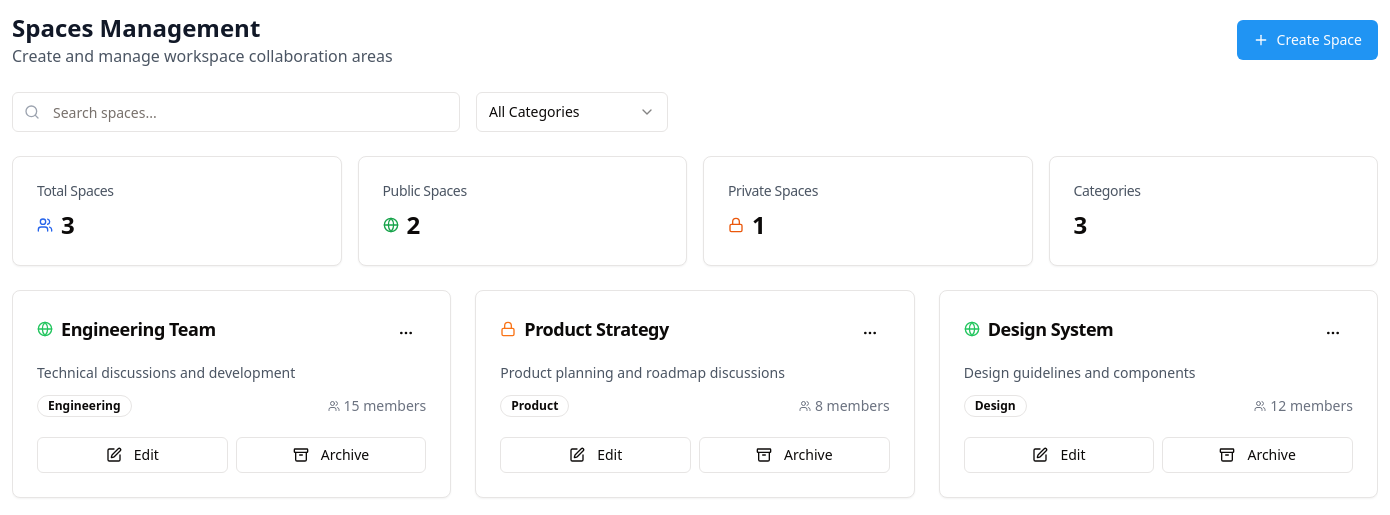
Test case: GroupsManagement › Search and Filtering › should clear search when search term is removed
Note: Search for specific term
Type "Engineering" into the field with placeholder "Search spaces..." at (236, 112), box x1=12 y1=92 x2=460 y2=132
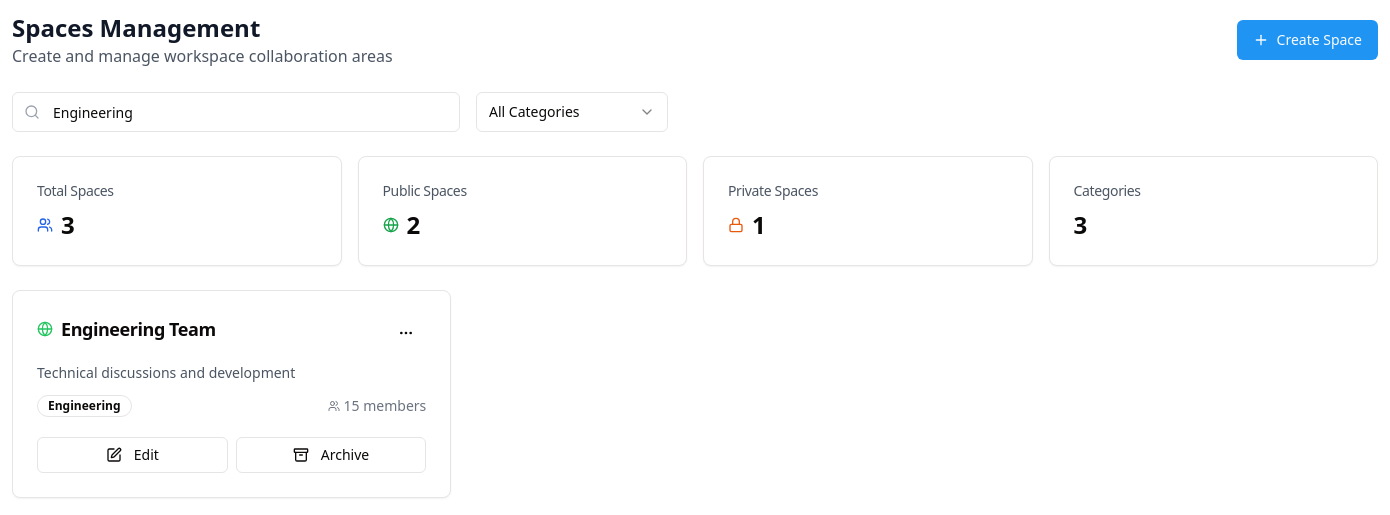
expect the text "Engineering Team" is shown: met, box x1=61 y1=315 x2=216 y2=343
expect the text "Product Strategy" is gone: met
Note: Clear search
Clear the field with placeholder "Search spaces..." at (236, 112), box x1=12 y1=92 x2=460 y2=132
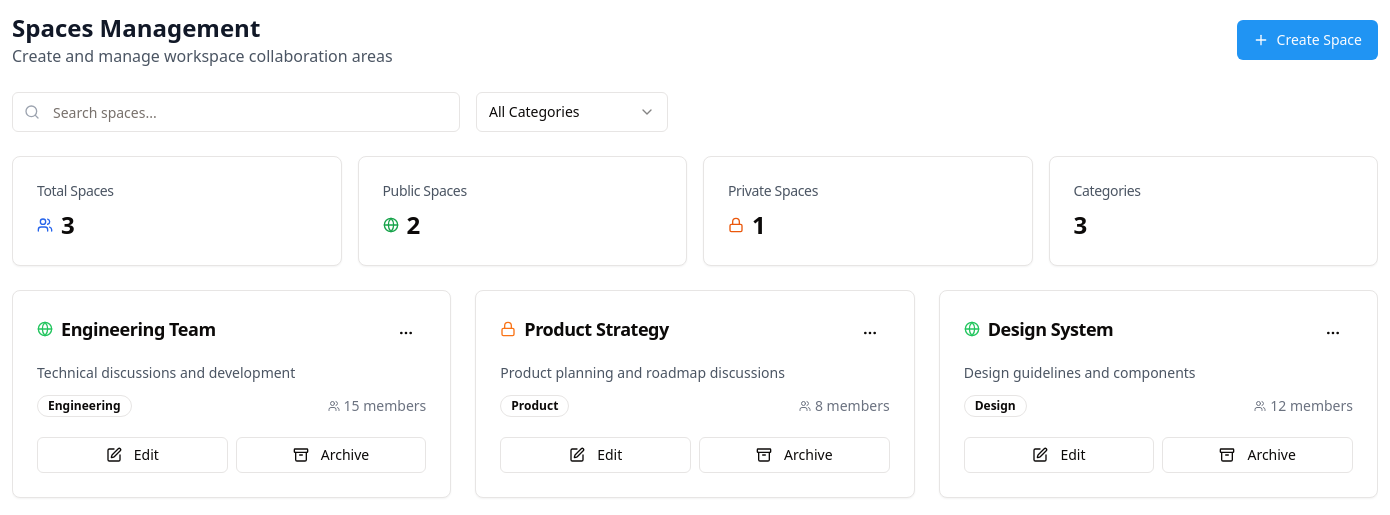
expect the text "Engineering Team" is shown: met, box x1=61 y1=315 x2=216 y2=343
expect the text "Product Strategy" is shown: met, box x1=524 y1=315 x2=669 y2=343
expect the text "Design System" is shown: met, box x1=988 y1=315 x2=1113 y2=343
